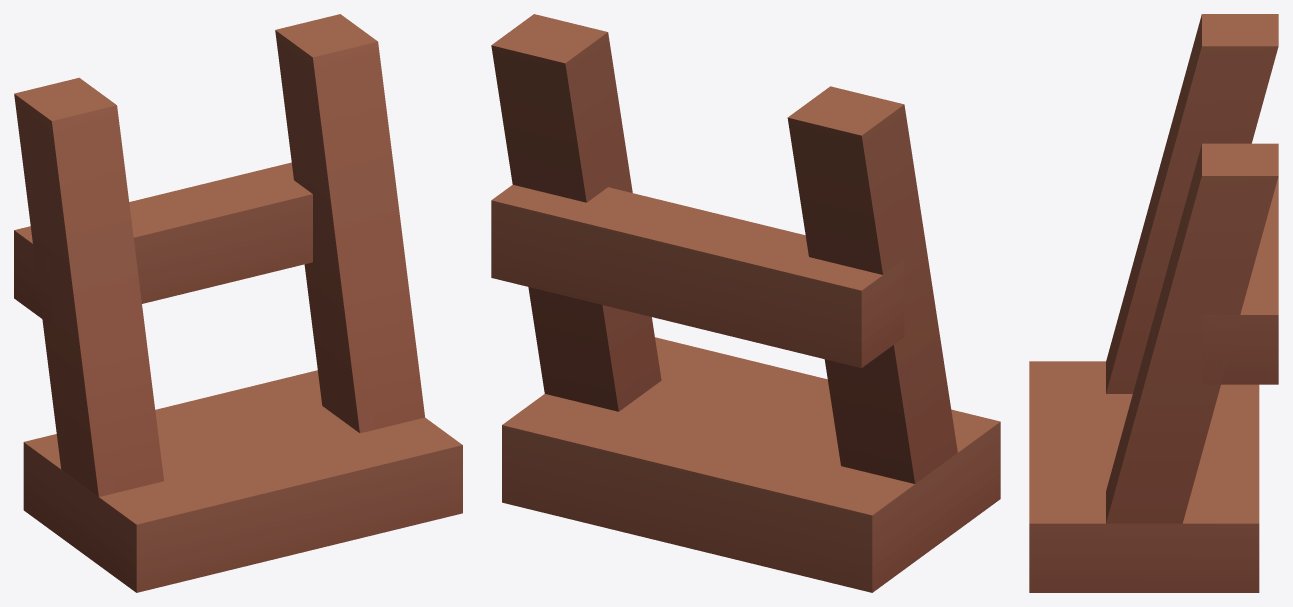
The model's file is kaykit-medieval-hexagon-pack-weaponrack.glb.
3 views of the same model, side by side, from view 1: azimuth 30°, elevation 25°; view 2: azimuth 150°, elevation 25°; view 3: azimuth 270°, elevation 25° (orthographic). The views are drawn at different scales.
Parts seen in each view (by area): view 1: weaponrack; view 2: weaponrack; view 3: weaponrack.
Boxes of the visible parts, x1,y1,x2,y2 form: weaponrack: (14, 14, 462, 592); weaponrack: (491, 14, 1000, 592); weaponrack: (1029, 14, 1278, 592).
Size of the model in its own units: 0.2 by 0.24 by 0.13.
Materials: 1 (1 with a texture image).
